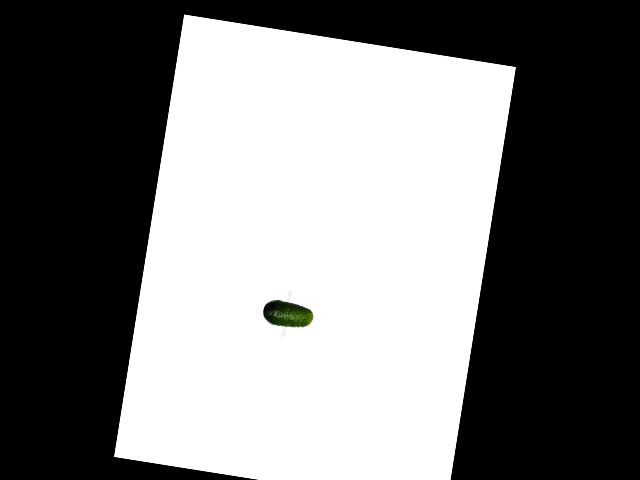cucumber: (260, 298, 315, 331)
